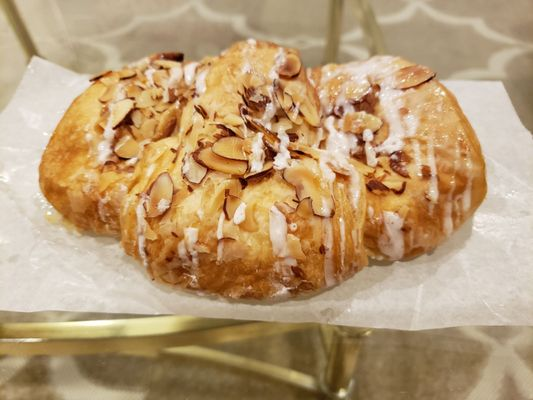salad: (43, 39, 480, 302)
